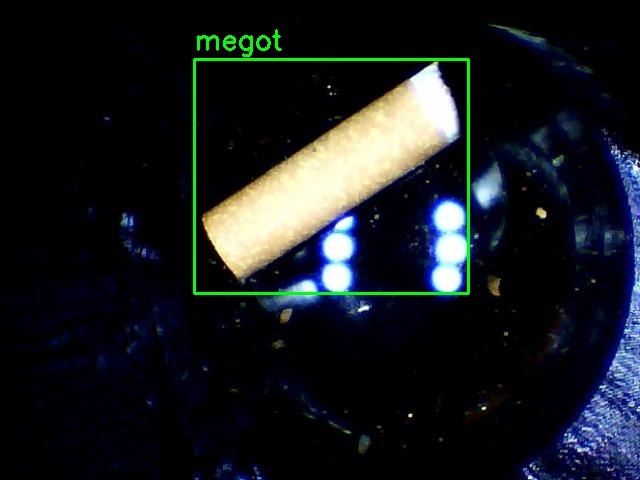megot: (194, 59, 468, 293)
